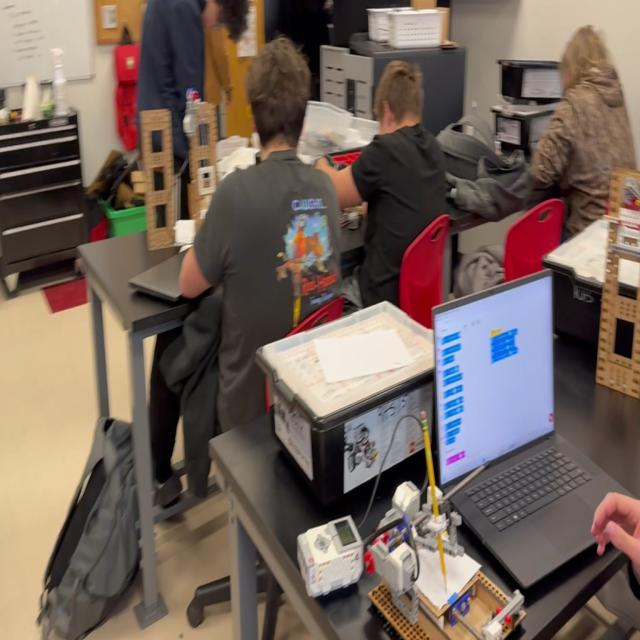pen: (528, 140, 552, 160)
